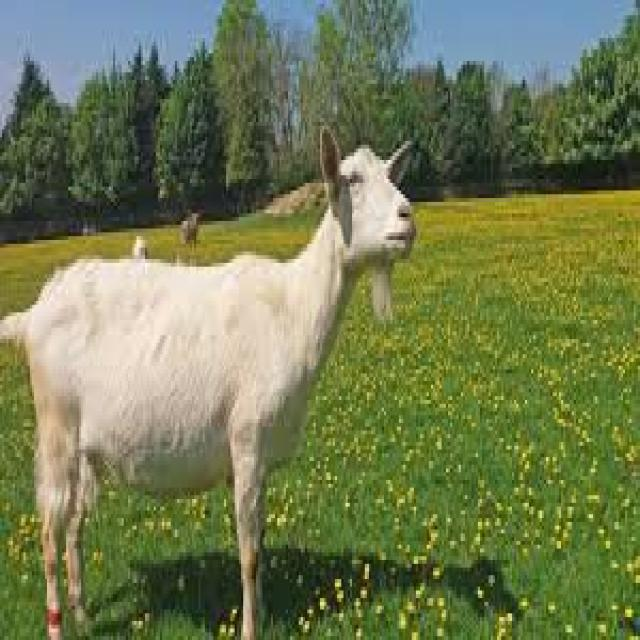Goat: (39, 121, 417, 628)
